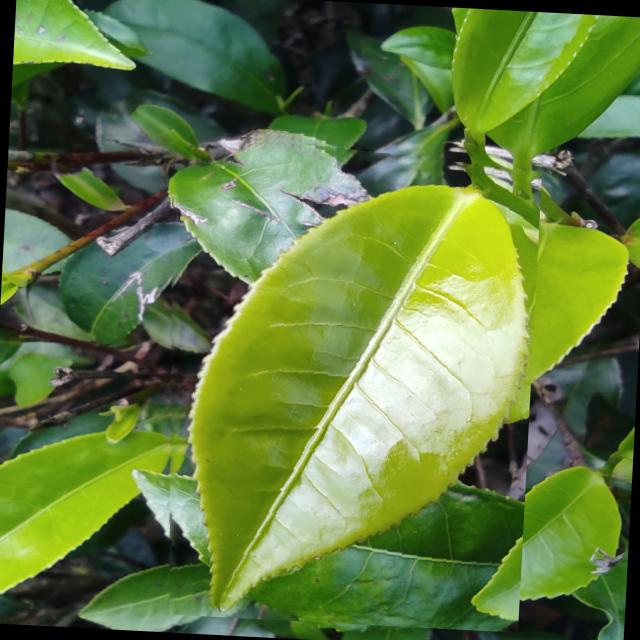Category B(2-4 days): (147, 128, 544, 632)
